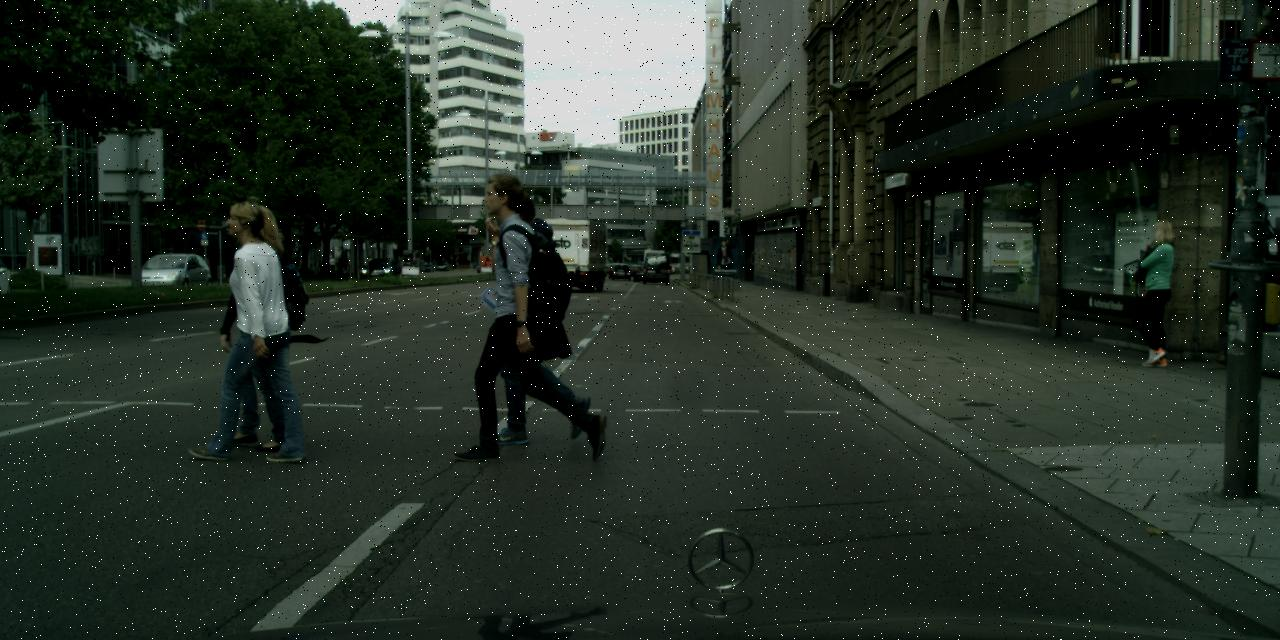ped: (466, 172, 580, 452), (195, 200, 301, 459), (482, 188, 582, 433), (208, 205, 308, 446), (1130, 219, 1189, 364), (328, 256, 335, 273), (314, 257, 320, 275)
